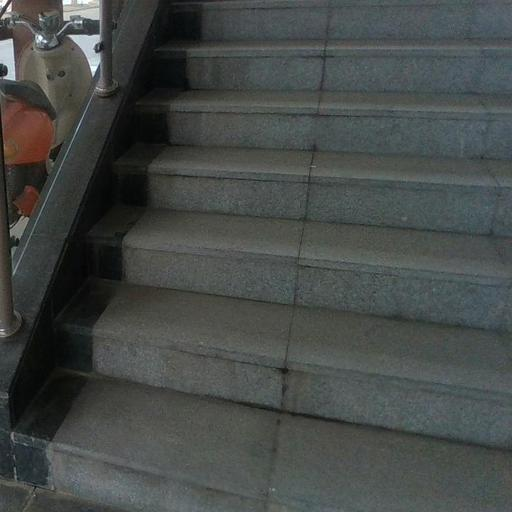Stairs: (13, 0, 512, 512)
